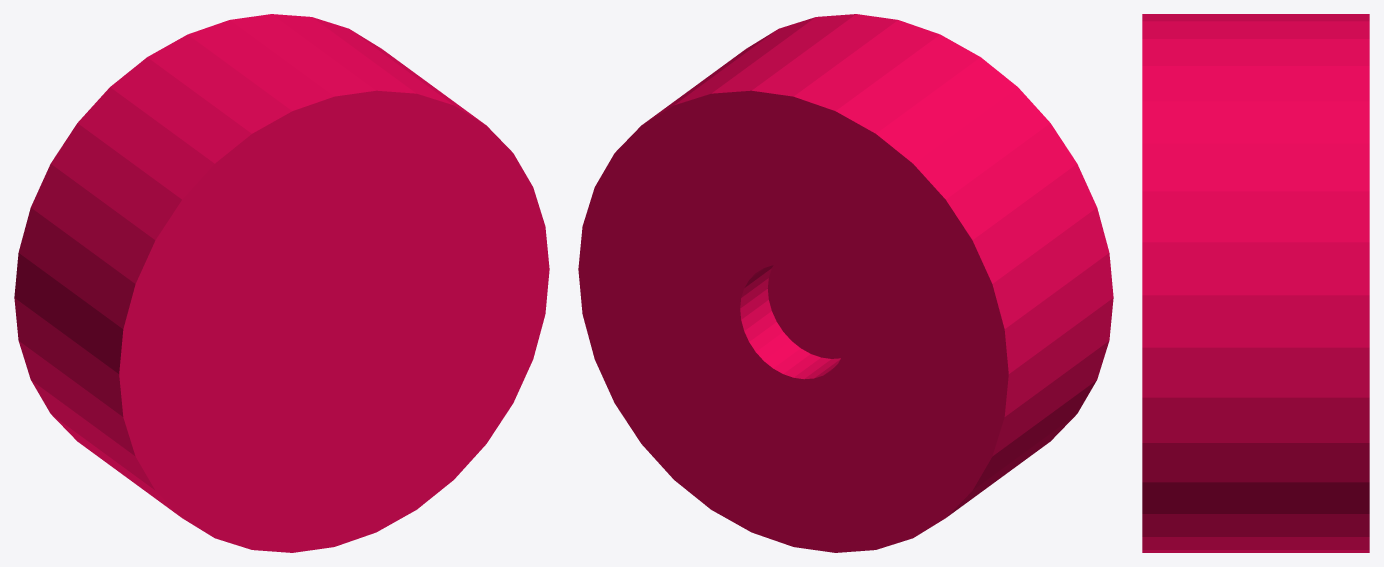
File: right_front.dae
The picture shows the model from 3 angles, left to right: view 1: azimuth 30°, elevation 25°; view 2: azimuth 150°, elevation 25°; view 3: azimuth 270°, elevation 25°; orthographic projection. The views are drawn at different scales.
Parts seen in each view (by area): view 1: right_front; view 2: right_front; view 3: right_front.
Part boxes in pixels (bbox=[...]): right_front: bbox=[14, 14, 549, 552]; right_front: bbox=[578, 14, 1113, 552]; right_front: bbox=[1142, 14, 1369, 552].
Size of the model in its own units: 0.2382 by 0.1005 by 0.2382.
